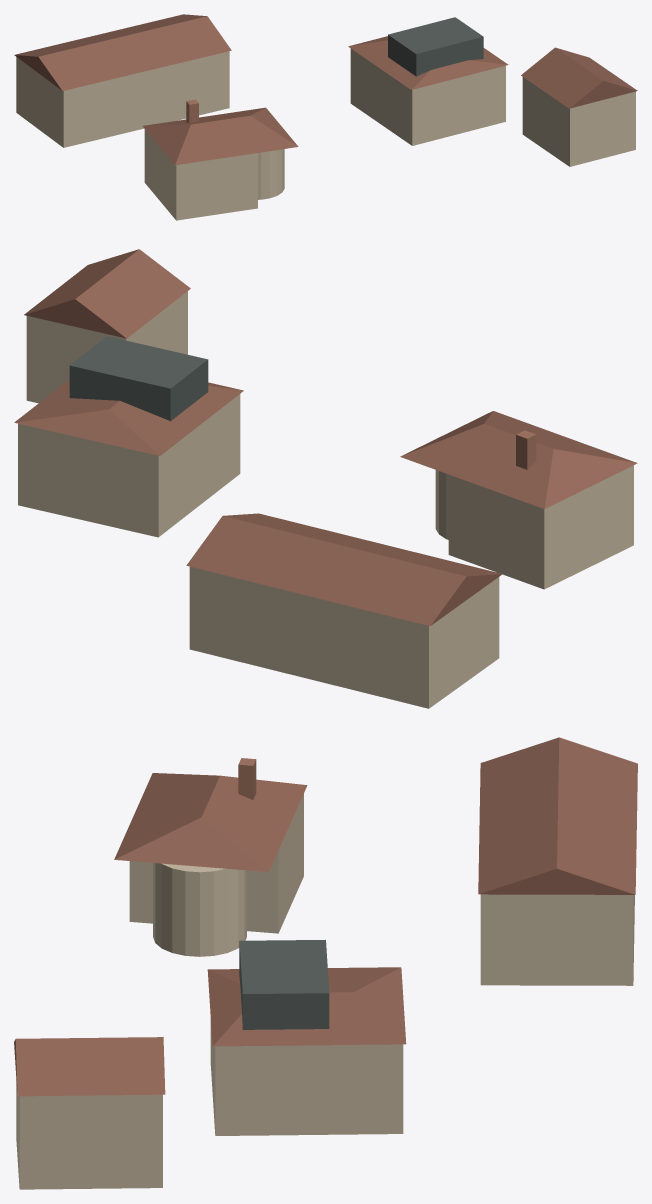
Rendered from xinhua-villas-329-massing.glb.
3 views of the same model, one above another, from view 1: azimuth 30°, elevation 25°; view 2: azimuth 150°, elevation 25°; view 3: azimuth 270°, elevation 25° (orthographic). The views are drawn at different scales.
Visible parts, largest first — view 1: xinhua-villas-329-member-15, xinhua-villas-329-member-40, xinhua-villas-329-member-36, xinhua-villas-329-member-42; view 2: xinhua-villas-329-member-15, xinhua-villas-329-member-40, xinhua-villas-329-member-36, xinhua-villas-329-member-42; view 3: xinhua-villas-329-member-15, xinhua-villas-329-member-40, xinhua-villas-329-member-36, xinhua-villas-329-member-42.
Boxes of the visible parts, <box> form: xinhua-villas-329-member-15: <box>14,14,231,147</box>; xinhua-villas-329-member-40: <box>348,17,508,145</box>; xinhua-villas-329-member-36: <box>142,99,298,220</box>; xinhua-villas-329-member-42: <box>521,47,637,166</box>; xinhua-villas-329-member-15: <box>186,513,502,708</box>; xinhua-villas-329-member-40: <box>14,336,243,537</box>; xinhua-villas-329-member-36: <box>400,411,637,589</box>; xinhua-villas-329-member-42: <box>24,249,190,403</box>; xinhua-villas-329-member-15: <box>478,737,637,985</box>; xinhua-villas-329-member-40: <box>207,939,406,1135</box>; xinhua-villas-329-member-36: <box>114,758,307,956</box>; xinhua-villas-329-member-42: <box>14,1037,165,1189</box>.
Bounding box in the file's own units: 33.16 × 6.35 × 26.07.
